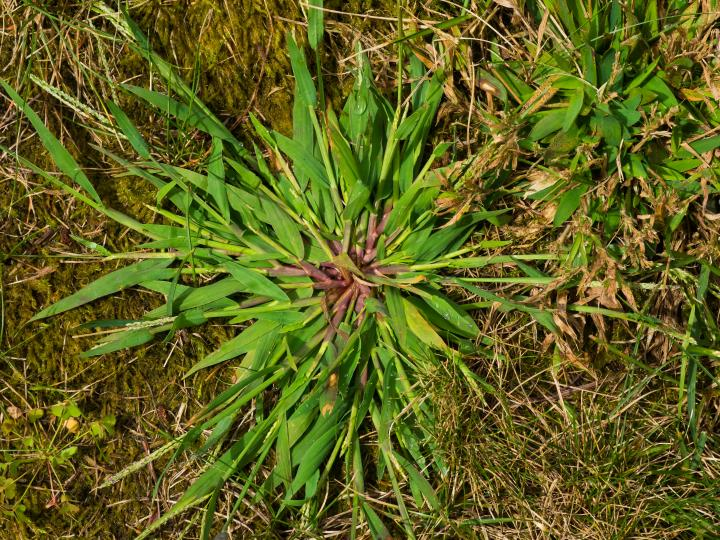crabgrass: (87, 93, 538, 469)
